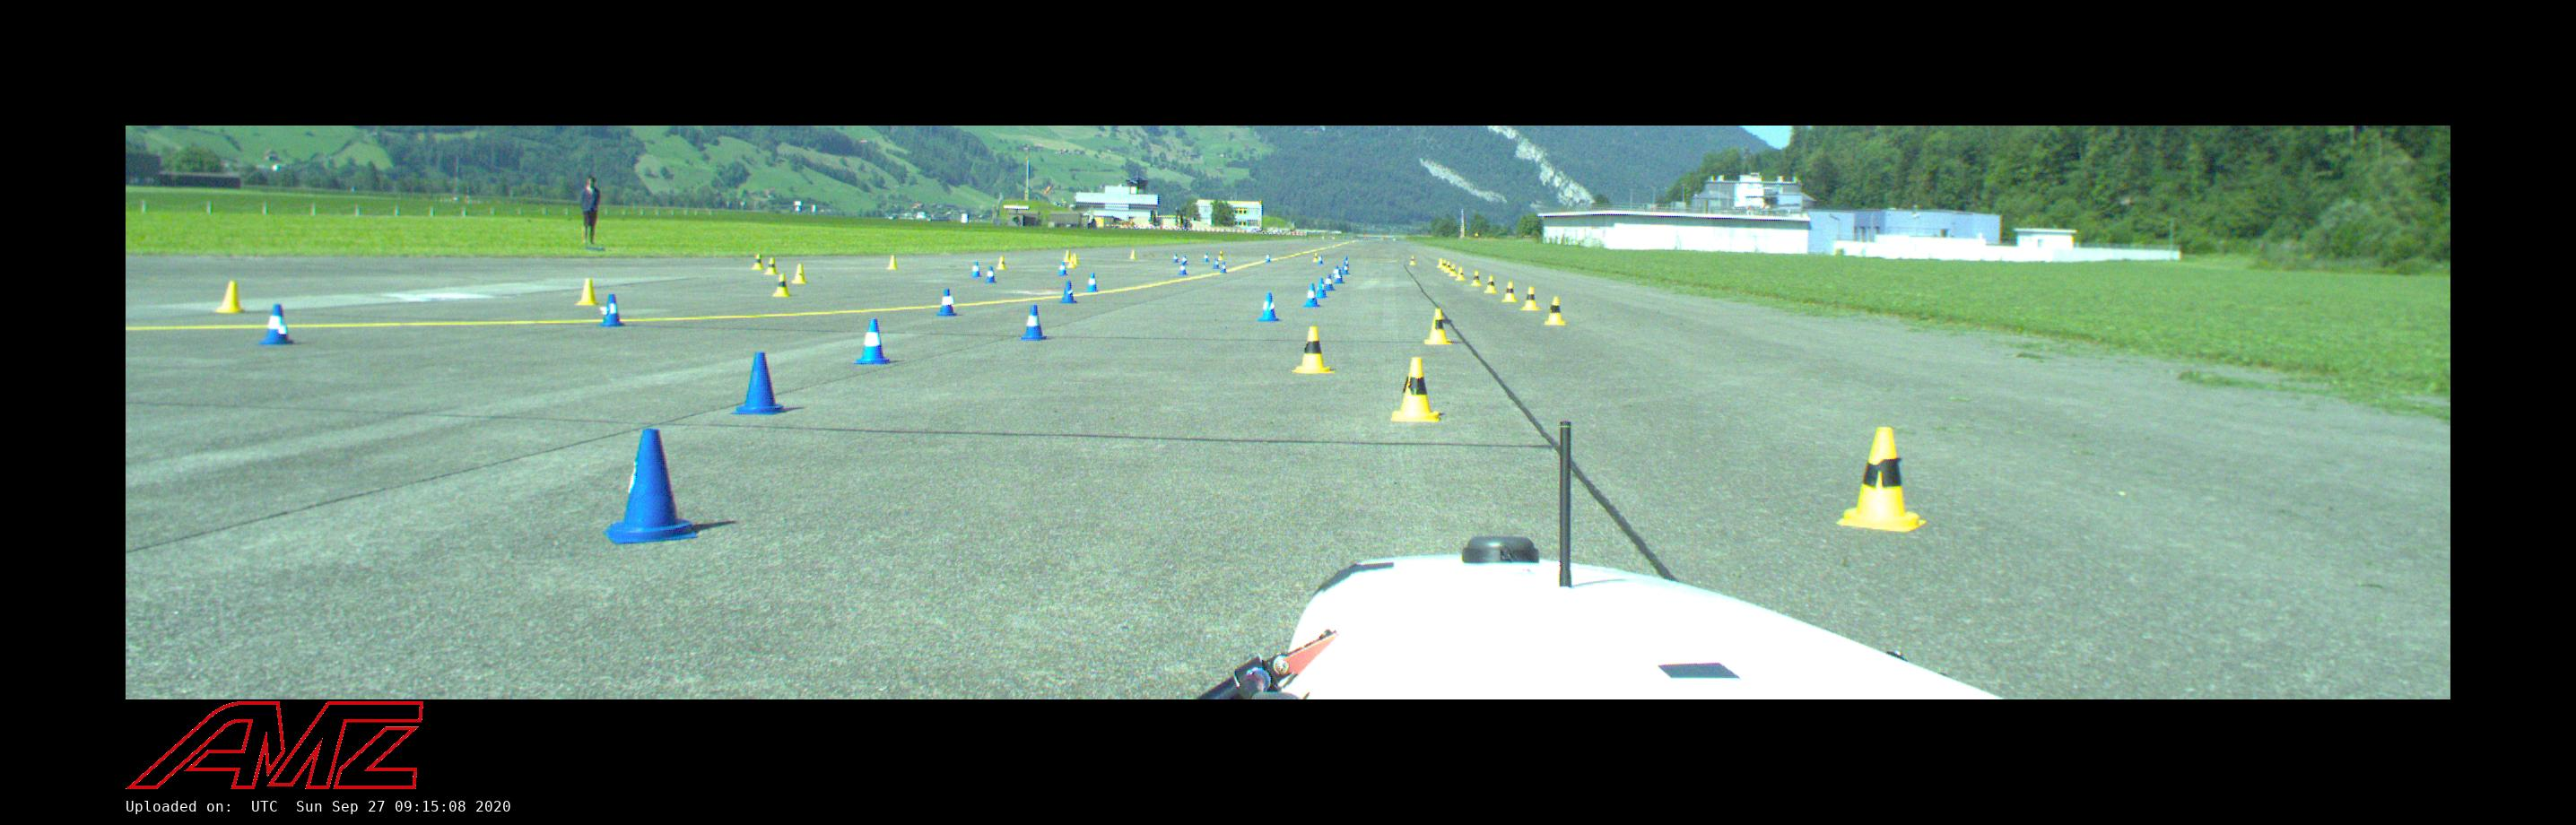blue_cone: (603, 427, 698, 546), (729, 352, 790, 416), (853, 319, 890, 365), (260, 304, 294, 345), (1019, 304, 1050, 340), (596, 294, 624, 327), (1255, 293, 1281, 322), (936, 289, 958, 316), (1301, 283, 1322, 307), (1058, 281, 1078, 304), (1316, 278, 1329, 299), (1086, 273, 1099, 293), (969, 261, 982, 278), (984, 266, 997, 283), (1324, 273, 1336, 291), (1334, 266, 1344, 284), (1342, 256, 1350, 274), (1058, 261, 1068, 276), (1178, 263, 1188, 276), (1203, 253, 1211, 263), (1212, 258, 1219, 270), (1221, 261, 1227, 273), (1265, 253, 1272, 263), (1173, 253, 1178, 263), (1183, 253, 1188, 263), (1318, 255, 1322, 263)
yellow_cone: (1835, 427, 1925, 532), (1391, 358, 1441, 421), (1291, 327, 1336, 373), (1424, 309, 1452, 345), (215, 279, 245, 312), (575, 278, 600, 306), (1544, 297, 1567, 325), (772, 274, 792, 297), (1520, 288, 1539, 311), (1502, 281, 1518, 302), (792, 263, 808, 283), (1483, 276, 1498, 293), (764, 258, 779, 274), (885, 255, 899, 270), (1470, 271, 1482, 286), (752, 255, 764, 270), (996, 256, 1007, 270), (1456, 268, 1465, 281), (1408, 256, 1418, 266), (1449, 265, 1457, 276), (1068, 258, 1076, 270), (1129, 250, 1137, 260), (1073, 253, 1079, 265), (1217, 250, 1224, 260), (1065, 250, 1069, 261), (1313, 253, 1319, 261), (1446, 263, 1451, 273), (1441, 260, 1446, 270), (1438, 258, 1442, 268)
